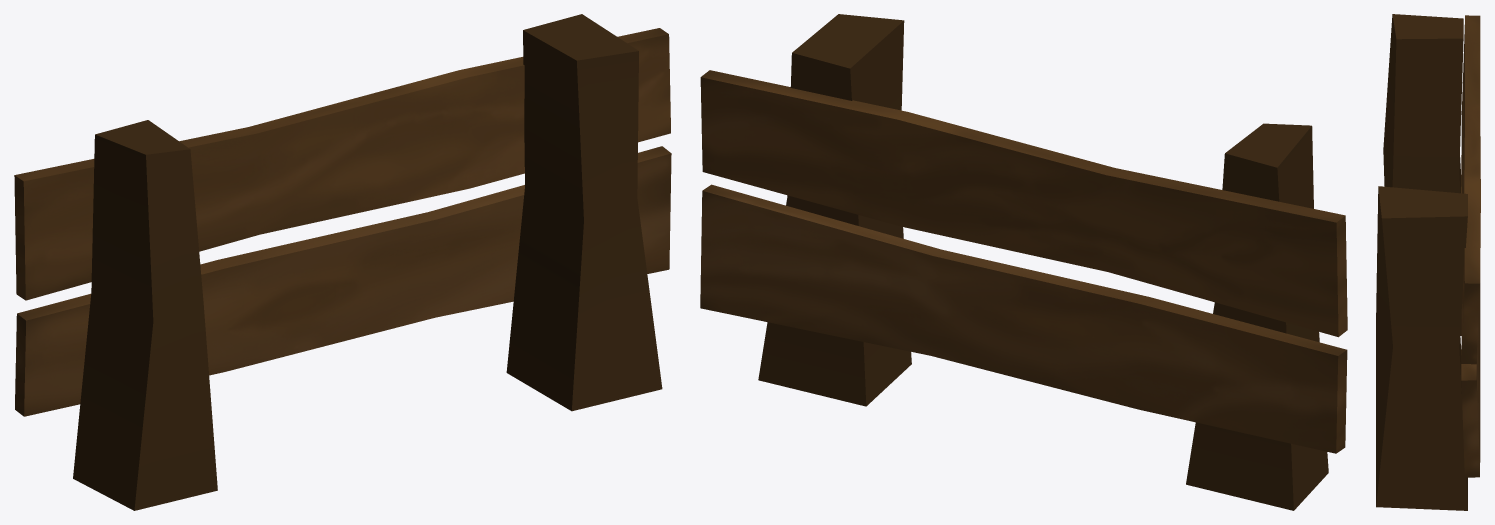
File: Fence_2_Current.FBX
The picture shows the model from 3 angles, left to right: view 1: azimuth 30°, elevation 25°; view 2: azimuth 150°, elevation 25°; view 3: azimuth 270°, elevation 25°; orthographic projection. The views are drawn at different scales.
Visible parts, largest first — view 1: Box001; view 2: Box001; view 3: Box001.
Part boxes in pixels (<box>): Box001: <box>14,14,671,510</box>; Box001: <box>700,14,1347,510</box>; Box001: <box>1376,14,1480,510</box>.
Bounding box in the file's own units: 79.02 × 41.02 × 13.49.
1 material, 1 textured.
